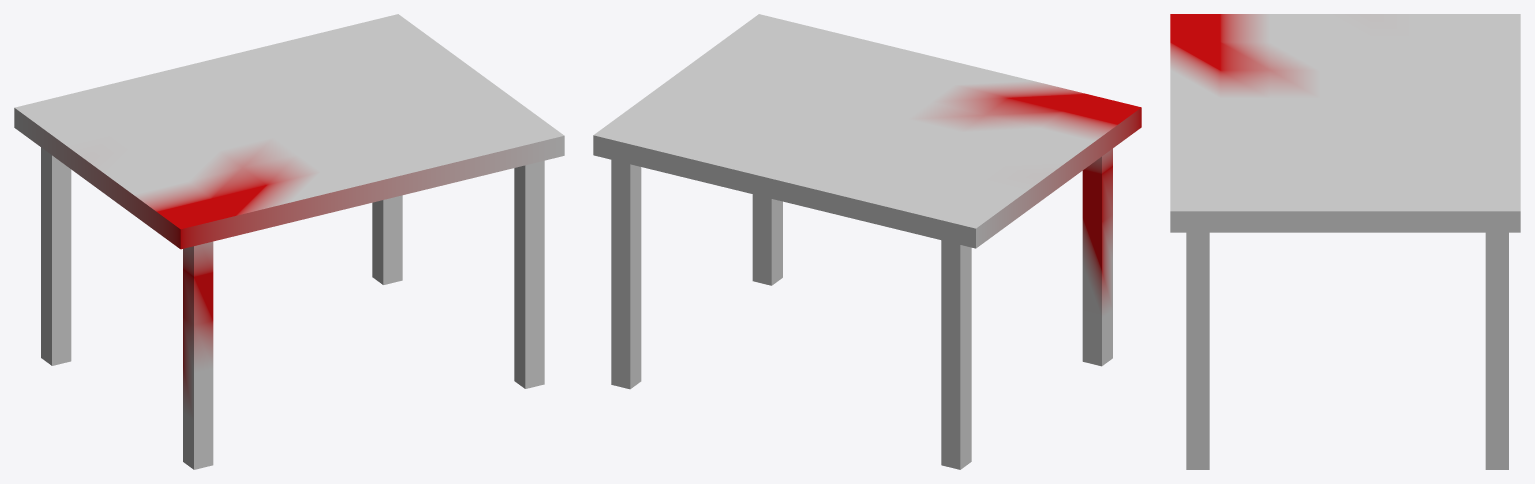
Rendered from FBX_Table.fbx.
3 renders of one model, left to right at view 1: azimuth 30°, elevation 25°; view 2: azimuth 150°, elevation 25°; view 3: azimuth 270°, elevation 25°, orthographic. The views are drawn at different scales.
Visible parts, largest first — view 1: Cube; view 2: Cube; view 3: Cube.
Part boxes in pixels (<box>): Cube: <box>14,14,564,469</box>; Cube: <box>593,14,1141,469</box>; Cube: <box>1170,14,1520,469</box>.
Size of the model in its own units: 200 by 125 by 150.
